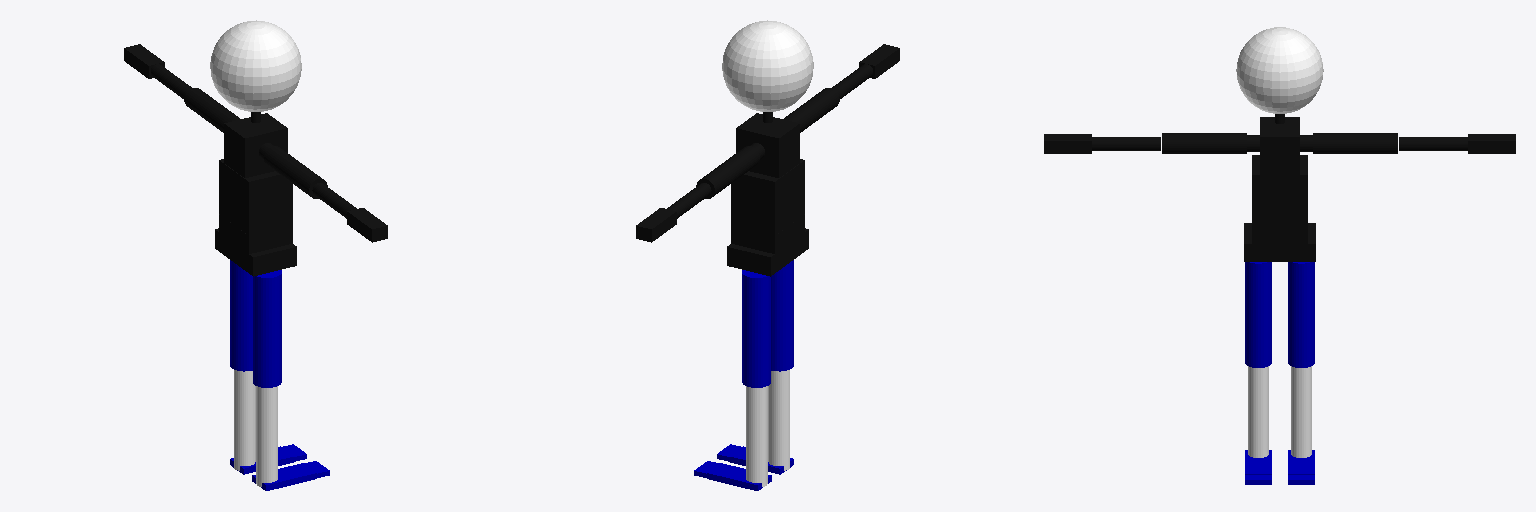
--- Facts derived from the render (not from the file) ---
Views: 3 orthographic renders of the robot side by side, from view 1: azimuth 30°, elevation 25°; view 2: azimuth 150°, elevation 25°; view 3: azimuth 270°, elevation 25°.
Robot: XSensStyleModel_template — 50 links, 49 joints (48 revolute, 1 fixed); root link world; default pose: every joint at zero.
Links seen in each view (by area): view 1: Head, RightUpperLeg, T8, LeftUpperLeg, T12, RightLowerLeg, LeftLowerLeg, L3, L5, Pelvis, RightUpperArm, LeftUpperArm (+5 smaller); view 2: Head, LeftUpperLeg, T8, RightUpperLeg, T12, LeftLowerLeg, RightLowerLeg, L3, L5, Pelvis, LeftUpperArm, RightUpperArm (+5 smaller); view 3: Head, RightUpperLeg, LeftUpperLeg, T8, RightLowerLeg, LeftLowerLeg, T12, RightUpperArm, LeftUpperArm, Pelvis, L3, RightForeArm (+4 smaller).
Link boxes in pixels (x1=…): Head: x1=210, y1=20, x2=301, y2=111; RightUpperLeg: x1=253, y1=270, x2=281, y2=387; T8: x1=224, y1=113, x2=287, y2=177; LeftUpperLeg: x1=230, y1=260, x2=252, y2=371; T12: x1=219, y1=159, x2=292, y2=210; RightLowerLeg: x1=256, y1=386, x2=277, y2=486; LeftLowerLeg: x1=234, y1=370, x2=255, y2=470; L3: x1=219, y1=189, x2=292, y2=235; L5: x1=219, y1=214, x2=292, y2=260; Pelvis: x1=215, y1=228, x2=296, y2=276; RightUpperArm: x1=264, y1=146, x2=327, y2=198; LeftUpperArm: x1=184, y1=88, x2=239, y2=132; Head: x1=722, y1=20, x2=813, y2=111; LeftUpperLeg: x1=742, y1=270, x2=770, y2=387; T8: x1=736, y1=113, x2=799, y2=177; RightUpperLeg: x1=771, y1=260, x2=793, y2=371; T12: x1=731, y1=159, x2=804, y2=210; LeftLowerLeg: x1=746, y1=386, x2=767, y2=486; RightLowerLeg: x1=768, y1=370, x2=789, y2=470; L3: x1=731, y1=189, x2=804, y2=235; L5: x1=731, y1=214, x2=804, y2=260; Pelvis: x1=727, y1=228, x2=808, y2=276; LeftUpperArm: x1=696, y1=146, x2=759, y2=198; RightUpperArm: x1=784, y1=88, x2=839, y2=132; Head: x1=1236, y1=27, x2=1323, y2=113; RightUpperLeg: x1=1245, y1=262, x2=1271, y2=367; LeftUpperLeg: x1=1288, y1=262, x2=1314, y2=367; T8: x1=1260, y1=117, x2=1299, y2=174; RightLowerLeg: x1=1248, y1=366, x2=1268, y2=457; LeftLowerLeg: x1=1291, y1=366, x2=1311, y2=457; T12: x1=1252, y1=155, x2=1307, y2=201; RightUpperArm: x1=1162, y1=133, x2=1246, y2=153; LeftUpperArm: x1=1313, y1=133, x2=1397, y2=153; Pelvis: x1=1244, y1=223, x2=1315, y2=261; L3: x1=1252, y1=202, x2=1307, y2=228; RightForeArm: x1=1092, y1=137, x2=1160, y2=150.
Bounding box of the posed robot: 0.2998 × 1.35 × 1.35 m (x, y, z).
Geometry: primitives only (box / cylinder / sphere), no mesh files.

URDF robot description (XSensStyleModel_template):
<!--URDF MODEL 48 DoFs-->

<!-- COTE GAUCHE ET DROITE DU BAS DU CORPS SONT INVERSES (ou pas)!!!! -->

<robot name="XSensStyleModel_template">

<material name="color">
    <color rgba="0.1 0.1 0.1 1"/>
</material>

<material name="blue">
    <color rgba="0 0 0.8 1"/>
</material>

<material name="red_transparency">
     <color rgba="1 0 0 0.5"/>              
</material>

<material name="white">
             <color rgba="1 1 1 1"/>
           </material>
<!--To open this model with Gazebo replace the null masses, inertias and dimensions of the 'fake links f1 and f2'-->

    <!--LINKS-->
    ################### AJOUT DU MONDE #################
    <link name="world"/>
    <joint name="joint_base" type="fixed">
    <origin xyz="0 0 0" rpy="0 0 0"/>
    <parent link="world"/>
    <child link="Pelvis"/>
    </joint>
    ######################################################
	<!--Link base (1)-->
	<link name="Pelvis">
        <inertial>
            <mass value="2.109"/>
			<!--COM origin wrt pHipOrigin-->
            <origin xyz="0           0    0.049743" rpy="0 0 0" />
            <inertia ixx="0.037" iyy="0.0027" izz="0.0045" ixy="0" ixz="0" iyz="0"/>
        </inertial>

        <visual>
			<!--box origin wrt pHipOrigin-->
            <origin xyz="0           0    0.049743" rpy="0 0 0" />
            <geometry>
                <box size="0.13815     0.20914    0.057469"/>
            </geometry>
            <material name="color"/>
        </visual>

        <collision>
			<!--box origin wrt pHipOrigin-->
            <origin xyz="0           0    0.049743" rpy="0 0 0" />
            <geometry>
                <box size="0.13815     0.20914    0.057469"/>
            </geometry>
        </collision>

    </link>
    <!--Chain from (2) to (7)-->
	<link name="L5_f1">
        <inertial>
            <mass value="0"/>
            <origin xyz="0 0 0" rpy="0 0 0" />
            <inertia ixx="0" iyy="0" izz="0" ixy="0" ixz="0" iyz="0"/>
        </inertial>
    </link>
	<link name="L5">
        <inertial>
            <mass value="1.5"/>
			<!--COM origin wrt jL5S1-->
            <origin xyz="0           0    0.047552" rpy="0 0 0" />
            <inertia ixx="0.1118" iyy="0.0715" izz="0.1609" ixy="0" ixz="0" iyz="0"/>
        </inertial>

        <visual>
			<!--box origin origin wrt jL5S1-->
            <origin xyz="0           0    0.047552" rpy="0 0 0" />
            <geometry>
                <box size="0.13815     0.16323    0.075104"/>
            </geometry>
            <material name="color"/>
        </visual>

        <collision>
			<!--box origin origin wrt jL5S1-->
            <origin xyz="0           0    0.047552" rpy="0 0 0" />
            <geometry>
                <box size="0.13815     0.16323    0.075104"/>
            </geometry>
        </collision>
    </link>
	<link name="L3_f1">
        <inertial>
            <mass value="0"/>
            <origin xyz="0 0 0" rpy="0 0 0" />
            <inertia ixx="0" iyy="0" izz="0" ixy="0" ixz="0" iyz="0"/>
        </inertial>
    </link>
	<link name="L3">
        <inertial>
            <mass value="1.5"/>
			<!--COM origin wrt jL4L3-->
            <origin xyz="0           0    0.042958" rpy="0 0 0" />
            <inertia ixx="0.1118" iyy="0.0715" izz="0.1609" ixy="0" ixz="0" iyz="0"/>
        </inertial>

        <visual>
			<!--box origin origin wrt jL4L3-->
            <origin xyz="0           0    0.042958" rpy="0 0 0" />
            <geometry>
                <box size="0.13815     0.16323    0.085916"/>
            </geometry>
            <material name="color"/>
        </visual>

        <collision>
			<!--box origin origin wrt jL4L3-->
            <origin xyz="0           0    0.042958" rpy="0 0 0" />
            <geometry>
                <box size="0.13815     0.16323    0.085916"/>
            </geometry>
        </collision>
    </link>
	<link name="T12_f1">
        <inertial>
            <mass value="0"/>
            <origin xyz="0 0 0" rpy="0 0 0" />
            <inertia ixx="0" iyy="0" izz="0" ixy="0" ixz="0" iyz="0"/>
        </inertial>
    </link>
	<link name="T12">
        <inertial>
            <mass value="1.5"/>
			<!--COM origin wrt jL1T12-->
            <origin xyz="0           0    0.042958" rpy="0 0 0" />
            <inertia ixx="0.1118" iyy="0.0715" izz="0.1609" ixy="0" ixz="0" iyz="0"/>
        </inertial>

        <visual>
			<!--box origin origin wrt jL1T12-->
            <origin xyz="0           0    0.042958" rpy="0 0 0" />
            <geometry>
                <box size="0.13815     0.16323    0.085916"/>
            </geometry>
            <material name="color"/>
        </visual>

        <collision>
			<!--box origin origin wrt jL1T12-->
            <origin xyz="0           0    0.042958" rpy="0 0 0" />
            <geometry>
                <box size="0.13815     0.16323    0.085916"/>
            </geometry>
        </collision>
    </link>
	<link name="T8_f1">
        <inertial>
            <mass value="0"/>
            <origin xyz="0 0 0" rpy="0 0 0" />
            <inertia ixx="0" iyy="0" izz="0" ixy="0" ixz="0" iyz="0"/>
        </inertial>
    </link>
	<link name="T8_f2">
        <inertial>
            <mass value="0"/>
            <origin xyz="0 0 0" rpy="0 0 0" />
            <inertia ixx="0" iyy="0" izz="0" ixy="0" ixz="0" iyz="0"/>
        </inertial>
    </link>
	<link name="T8">
        <inertial>
            <mass value="2.109"/>
			<!--COM origin wrt jT9T8-->
            <origin xyz="0           0    0.059874" rpy="0 0 0" />
            <inertia ixx="0.0037" iyy="0.0029" izz="0.0026" ixy="0" ixz="0" iyz="0"/>
        </inertial>

        <visual>
			<!--box origin wrt jT9T8-->
            <origin xyz="0           0    0.059874" rpy="0 0 0" />
            <geometry>
                <box size="0.13457    0.112626     0.11975"/>
            </geometry>
            <material name="color"/>
        </visual>

        <collision>
			<!--box origin wrt jT9T8-->
            <origin xyz="0           0    0.059874" rpy="0 0 0" />
            <geometry>
                <box size="0.13457    0.112626     0.11975"/>
            </geometry>
        </collision>

    </link>
	<link name="Neck_f1">
        <inertial>
            <mass value="0"/>
            <origin xyz="0 0 0" rpy="0 0 0" />
            <inertia ixx="0" iyy="0" izz="0" ixy="0" ixz="0" iyz="0"/>
        </inertial>
    </link>
	<link name="Neck_f2">
        <inertial>
            <mass value="0"/>
            <origin xyz="0 0 0" rpy="0 0 0" />
            <inertia ixx="0" iyy="0" izz="0" ixy="0" ixz="0" iyz="0"/>
        </inertial>
    </link>
	<link name="Neck">
        <inertial>
            <mass value="0.500"/>
			<!--COM origin wrt jT1C7-->
            <origin xyz="0           0    0.044626" rpy="0 0 0" />
            <inertia ixx="0.0006461" iyy="0.0006461" izz="0.00030124" ixy="0" ixz="0" iyz="0"/>
        </inertial>

        <visual>
			<!--box origin wrt jT1C7-->
            <origin xyz="0           0    0.044626" rpy="0 0 0" />
            <geometry>
		<cylinder length="0.06" radius="0.014205"/>
            </geometry>
            <material name="color"/>
        </visual>

        <collision>
			<!--box origin wrt jT1C7-->
            <origin xyz="0           0    0.044626" rpy="0 0 0" />
            <geometry>
                <cylinder length="0.089252" radius="0.014205"/>
            </geometry>
        </collision>
    </link>
	<link name="Head_f1">
        <inertial>
            <mass value="0"/>
            <origin xyz="0 0 0" rpy="0 0 0" />
            <inertia ixx="0" iyy="0" izz="0" ixy="0" ixz="0" iyz="0"/>
        </inertial>
    </link>
	<link name="Head">
        <inertial>
            <mass value="2.47"/>
			<!--COM origin wrt jC1Head-->
            <origin xyz="0           0    0.089005" rpy="0 0 0" />
            <inertia ixx="0.0181" iyy="0.0193" izz="0.0124" ixy="0" ixz="0" iyz="0"/>
        </inertial>

        <visual>
			<!--box origin wrt jC1Head-->
            <origin xyz="0           0    0.089005" rpy="0 0 0" />
            <geometry>
                <sphere radius="0.125"/>
            </geometry>
            <material name="white"/>
        </visual>

        <collision>
			<!--box origin wrt jC1Head-->
            <origin xyz="0           0    0.089005" rpy="0 0 0" />
            <geometry>
                <sphere radius="0.125"/>
            </geometry>
        </collision>

    </link>
	<!--Chain from (8) to (11)-->
	<link name="RightShoulder">
        <inertial>
            <mass value="0"/>
			<!--COM origin wrt jRightC7Shoulder-->
            <origin xyz="0   -0.065233           0" rpy="0 0 0" />
            <inertia ixx="0.0" iyy="0.0" izz="0.0" ixy="0" ixz="0" iyz="0"/>
        </inertial>

        <visual>
			<!--box origin wrt jRightC7Shoulder. RPY rotated of pi/2.-->
            <origin xyz="0   -0.02          0" rpy="1.5708 0 0" />
            <geometry>
                <cylinder length="0.13047" radius="0.023574"/>
            </geometry>
            <material name="color"/>
        </visual>

        <collision>
			<!--box origin wrt jRightC7Shoulder. RPY rotated of pi/2.-->
            <origin xyz="0   -0.02          0" rpy="1.5708 0 0" />
            <geometry>
                <cylinder length="0.13047" radius="0.023574"/>
            </geometry>
        </collision>

    </link>
	<link name="RightUpperArm_f1">
        <inertial>
            <mass value="0"/>
            <origin xyz="0 0 0" rpy="0 0 0" />
            <inertia ixx="0" iyy="0" izz="0" ixy="0" ixz="0" iyz="0"/>
        </inertial>
    </link>
	<link name="RightUpperArm_f2">
        <inertial>
            <mass value="0"/>
            <origin xyz="0 0 0" rpy="0 0 0" />
            <inertia ixx="0" iyy="0" izz="0" ixy="0" ixz="0" iyz="0"/>
        </inertial>
    </link>
    <link name="RightUpperArm">
        <inertial>
            <mass value="0.638"/>
			<!--COM origin wrt jRightShoulder-->
            <origin xyz="0    -0.09497          0" rpy="0 0 0" />
            <inertia ixx="0.003" iyy="0.003" izz="7.59e-04" ixy="0" ixz="0" iyz="0"/>
        </inertial>

        <visual>
			<!--box origin wrt jRightShoulder. RPY rotated of pi/2.-->
            <origin xyz="0    -0.09497          0" rpy="1.5708 0 0" />
            <geometry>
                <cylinder length="0.245" radius="0.029449"/>
            </geometry>
            <material name="color"/>
        </visual>

        <collision>
			<!--box origin wrt jRightShoulder. RPY rotated of pi/2.-->
            <origin xyz="0    -0.13497           0" rpy="1.5708 0 0" />
            <geometry>
                <cylinder length="0.245" radius="0.029449"/>
            </geometry>
        </collision>

    </link>
	<link name="RightForeArm_f1">
        <inertial>
            <mass value="0"/>
            <origin xyz="0 0 0" rpy="0 0 0" />
            <inertia ixx="0" iyy="0" izz="0" ixy="0" ixz="0" iyz="0"/>
        </inertial>
    </link>
	<link name="RightForeArm">
        <inertial>
            <mass value="0.352"/>
			<!--COM origin wrt jRightElbow-->
            <origin xyz="0    -0.11124           0" rpy="0 0 0" />
            <inertia ixx="0.001" iyy="8.8e-4" izz="2.75e-4" ixy="0" ixz="0" iyz="0"/>
        </inertial>

        <visual>
			<!--box origin wrt jRightElbow. RPY rotated of pi/2.-->
            <origin xyz="0    -0.11124           0" rpy="1.5708 0 0" />
            <geometry>
                <cylinder length="0.20247" radius="0.019633"/>
            </geometry>
            <material name="color"/>
        </visual>

        <collision>
			<!--box origin wrt jRightElbow. RPY rotated of pi/2.-->
            <origin xyz="0    -0.11124           0" rpy="1.5708 0 0" />
            <geometry>
                <cylinder length="0.20247" radius="0.019633"/>
            </geometry>
        </collision>

    </link>
	<link name="RightHand_f1">
        <inertial>
            <mass value="0"/>
            <origin xyz="0 0 0" rpy="0 0 0" />
            <inertia ixx="0" iyy="0" izz="0" ixy="0" ixz="0" iyz="0"/>
        </inertial>
    </link>
	<link name="RightHand">
        <inertial>
            <mass value="0.176"/>
			<!--COM origin wrt jRightWrist-->
            <origin xyz="0   -0.083588           0" rpy="0 0 0" />
            <inertia ixx="0.0011" iyy="9.57e-4" izz="5.08e-4" ixy="0" ixz="0" iyz="0"/>
        </inertial>

        <visual>
			<!--box origin wrt jRightWrist-->
            <origin xyz="0   -0.083588           0" rpy="0 0 0" />
            <geometry>
                <box size="0.05     0.135    0.039266"/>
            </geometry>
            <material name="color"/>
        </visual>

        <collision>
			<!--box origin wrt jRightWrist-->
            <origin xyz="0   -0.083588           0" rpy="0 0 0" />
            <geometry>
                <box size="0.05     0.135   0.039266"/>
            </geometry>
        </collision>

    </link>
	<!--Chain from (12) to (15)-->
	<link name="LeftShoulder">
        <inertial>
            <mass value="0"/>
			<!--COM origin wrt jLeftC7Shoulder-->
            <origin xyz="0    0.065233           0" rpy="0 0 0" />
            <inertia ixx="0.0" iyy="0.00" izz="0.00" ixy="0" ixz="0" iyz="0"/>
        </inertial>

        <visual>
			<!--box origin wrt jLeftC7Shoulder. RPY rotated of pi/2.-->
            <origin xyz="0    0.02           0" rpy="1.5708 0 0" />
            <geometry>
                <cylinder length="0.13047" radius="0.023574"/>
            </geometry>
            <material name="color"/>
        </visual>

        <collision>
			<!--box origin wrt jLeftC7Shoulder. RPY rotated of pi/2.-->
            <origin xyz="0    0.02          0" rpy="1.5708 0 0" />
            <geometry>
                <cylinder length="0.13047" radius="0.023574"/>
            </geometry>
        </collision>

    </link>
	<link name="LeftUpperArm_f1">
        <inertial>
            <mass value="0"/>
            <origin xyz="0 0 0" rpy="0 0 0" />
            <inertia ixx="0" iyy="0" izz="0" ixy="0" ixz="0" iyz="0"/>
        </inertial>
    </link>
	<link name="LeftUpperArm_f2">
        <inertial>
            <mass value="0"/>
            <origin xyz="0 0 0" rpy="0 0 0" />
            <inertia ixx="0" iyy="0" izz="0" ixy="0" ixz="0" iyz="0"/>
        </inertial>
    </link>
	<link name="LeftUpperArm">
        <inertial>
            <mass value="0.639"/>
			<!--COM origin wrt jLeftShoulder-->
            <origin xyz="0     0.09497           0" rpy="0 0 0" />
            <inertia ixx="0.003" iyy="0.003" izz="7.59e-04" ixy="0" ixz="0" iyz="0"/>
        </inertial>

        <visual>
			<!--box origin wrt jLeftShoulder. RPY rotated of pi/2.-->
            <origin xyz="0     0.09497           0" rpy="1.5708 0 0" />
            <geometry>
                <cylinder length="0.245" radius="0.029449"/>
            </geometry>
            <material name="color"/>
        </visual>

        <collision>
			<!--box origin wrt jLeftShoulder. RPY rotated of pi/2.-->
            <origin xyz="0     0.13497           0" rpy="1.5708 0 0" />
            <geometry>
                <cylinder length="0.245" radius="0.029449"/>
            </geometry>
        </collision>

    </link>
	<link name="LeftForeArm_f1">
        <inertial>
            <mass value="0"/>
            <origin xyz="0 0 0" rpy="0 0 0" />
            <inertia ixx="0" iyy="0" izz="0" ixy="0" ixz="0" iyz="0"/>
        </inertial>
    </link>
	<link name="LeftForeArm">
        <inertial>
            <mass value="0.352"/>
			<!--COM origin wrt jLeftElbow-->
            <origin xyz="0     0.11124           0" rpy="0 0 0" />
            <inertia ixx="0.001" iyy="8.8e-4" izz="2.75e-4" ixy="0" ixz="0" iyz="0"/>
        </inertial>

        <visual>
			<!--box origin wrt jLeftElbow. RPY rotated of pi/2.-->
            <origin xyz="0     0.11124           0" rpy="1.5708 0 0" />
            <geometry>
                <cylinder length="0.20247" radius="0.019633"/>
            </geometry>
            <material name="color"/>
        </visual>

        <collision>
			<!--box origin wrt jLeftElbow. RPY rotated of pi/2.-->
            <origin xyz="0     0.11124           0" rpy="1.5708 0 0" />
            <geometry>
                <cylinder length="0.20247" radius="0.019633"/>
            </geometry>
        </collision>

    </link>
	<link name="LeftHand_f1">
        <inertial>
            <mass value="0"/>
            <origin xyz="0 0 0" rpy="0 0 0" />
            <inertia ixx="0" iyy="0" izz="0" ixy="0" ixz="0" iyz="0"/>
        </inertial>
    </link>
	<link name="LeftHand">
        <inertial>
            <mass value="0.176"/>
			<!--COM origin wrt jLeftWrist-->
            <origin xyz="0    0.083588           0" rpy="0 0 0" />
            <inertia ixx="0.0011" iyy="9.57e-4" izz="5.08e-4" ixy="0" ixz="0" iyz="0"/>
        </inertial>

        <visual>
			<!--COM origin wrt jLeftWrist-->
            <origin xyz="0    0.083588           0" rpy="0 0 0" />
            <geometry>
                <box size="0.05     0.135    0.039266"/>
            </geometry>
            <material name="color"/>
        </visual>

        <collision>
			<!--COM origin wrt jLeftWrist-->
            <origin xyz="0    0.083588           0" rpy="0 0 0" />
            <geometry>
                <box size="0.05    0.135    0.039266"/>
            </geometry>
        </collision>

    </link>
	<!--Chain from (16) to (19)-->
	<link name="RightUpperLeg_f1">
        <inertial>
            <mass value="0"/>
            <origin xyz="0 0 0" rpy="0 0 0" />
            <inertia ixx="0" iyy="0" izz="0" ixy="0" ixz="0" iyz="0"/>
        </inertial>
    </link>
	<link name="RightUpperLeg_f2">
        <inertial>
            <mass value="0"/>
            <origin xyz="0 0 0" rpy="0 0 0" />
            <inertia ixx="0" iyy="0" izz="0" ixy="0" ixz="0" iyz="0"/>
        </inertial>
    </link>
    <link name="RightUpperLeg">
        <inertial>
            <mass value="1.98"/>
			<!--COM origin wrt jRightHip-->
            <origin xyz="0           0    -0.16449" rpy="0 0 0" />
            <inertia ixx="0.0207" iyy="0.0221" izz="0.0078" ixy="0" ixz="0" iyz="0"/>
        </inertial>

        <visual>
			<!--box origin wrt jRightHip-->
            <origin xyz="0           0.02    -0.16449" rpy="0 0 0" />
            <geometry>
                <cylinder length="0.33" radius="0.04"/>
            </geometry>
            <material name="blue"/>
        </visual>

        <collision>
			<!--box origin wrt jRightHip-->
            <origin xyz="0           0.02   -0.16449" rpy="0 0 0" />
            <geometry>
                <cylinder length="0.33" radius="0.04"/>
            </geometry>
        </collision>

    </link>
	<link name="RightLowerLeg_f1">
        <inertial>
            <mass value="1.078"/>
            <origin xyz="0 0 0" rpy="0 0 0" />
            <inertia ixx="0" iyy="0" izz="0" ixy="0" ixz="0" iyz="0"/>
        </inertial>
    </link>
    <link name="RightLowerLeg">
        <inertial>
            <mass value="2.2703"/>
			<!--COM origin wrt jRightKnee-->
            <origin xyz="0           0    -0.14449" rpy="0 0 0" />
            <inertia ixx="0.0066" iyy="0.0066" izz="8.45e-4" ixy="0" ixz="0" iyz="0"/>
        </inertial>

        <visual>
			<!--box origin wrt jRightKnee-->
            <origin xyz="0           0.02    -0.14449" rpy="0 0 0" />
            <geometry>
                <cylinder length="0.32" radius="0.03"/>
            </geometry>
             <material name="white">
              <color rgba="1 1 1 1"/>
           </material>
        </visual>

        <collision>
			<!--box origin wrt jRightKnee-->
            <origin xyz="0           0.02    -0.14449" rpy="0 0 0" />
            <geometry>
                <cylinder length="0.32" radius="0.03"/>
            </geometry>
        </collision>

    </link>
	<link name="RightFoot_f1">
        <inertial>
            <mass value="0"/>
            <origin xyz="0 0 0" rpy="0 0 0" />
            <inertia ixx="0" iyy="0" izz="0" ixy="0" ixz="0" iyz="0"/>
        </inertial>
    </link>
	<link name="RightFoot_f2">
        <inertial>
            <mass value="0"/>
            <origin xyz="0 0 0" rpy="0 0 0" />
            <inertia ixx="0" iyy="0" izz="0" ixy="0" ixz="0" iyz="0"/>
        </inertial>
    </link>
    <link name="RightFoot">
        <inertial>
            <mass value="0.44"/>
			<!--COM origin wrt jRightAnkle-->
            <origin xyz="0.054652           0   -0.028254" rpy="0 0 0" />
            <inertia ixx="0.001" iyy="0.0044" izz="0.0044" ixy="0" ixz="0" iyz="0"/>
        </inertial>

        <visual>
			<!--box origin wrt jRightAnkle-->
	    	<origin xyz="0.054652           0.02   -0.028254" rpy="0 0 0" />
            <geometry>
                <box size="0.16    0.074775    0.018509"/>
            </geometry>
            <material name="blue"/>
        </visual>

        <collision>
			<!--box origin wrt jRightAnkle-->
		    <origin xyz="0.054652           0.02   -0.028254" rpy="0 0 0" />
	            <geometry>
	                <box size="0.16    0.074775    0.018509"/>
	            </geometry>
        </collision>

    </link>
    <link name="RightToe">
        <inertial>
            <mass value="0.01"/>
			<!--COM origin wrt jRightBallFoot-->
            <origin xyz="0.030086           0           +0.012" rpy="0 0 0" />
            <inertia ixx="4.5038e-05" iyy="2.9717e-05" izz="7.1624e-05" ixy="0" ixz="0" iyz="0"/>
        </inertial>

        <visual>
			<!--box origin wrt jRightBallFoot-->
            <origin xyz="0.030086           0.02           +0.012" rpy="0 0 0" />
            <geometry>
                <box size="0.060173    0.074775    0.014191"/>
            </geometry>
            <material name="blue"/>
        </visual>

        <collision>
			<!--box origin wrt jRightBallFoot-->
            <origin xyz="0.030086           0.02           +0.012" rpy="0 0 0" />
            <geometry>
                <box size="0.060173    0.074775    0.014191"/>
            </geometry>
        </collision>
    </link>
	<!--Chain from (20) to (23)-->
	<link name="LeftUpperLeg_f1">
        <inertial>
            <mass value="0"/>
            <origin xyz="0 0 0" rpy="0 0 0" />
            <inertia ixx="0" iyy="0" izz="0" ixy="0" ixz="0" iyz="0"/>
        </inertial>
    </link>
	<link name="LeftUpperLeg_f2">
        <inertial>
            <mass value="0"/>
            <origin xyz="0 0 0" rpy="0 0 0" />
            <inertia ixx="0" iyy="0" izz="0" ixy="0" ixz="0" iyz="0"/>
        </inertial>
    </link>
    <link name="LeftUpperLeg">
        <inertial>
            <mass value="1.98"/>
			<!--COM origin wrt jLeftHip-->
            <origin xyz="0           0    -0.16449" rpy="0 0 0" />
            <inertia ixx="0.0207" iyy="0.0221" izz="0.0078" ixy="0" ixz="0" iyz="0"/>
        </inertial>

        <visual>
			<!--box origin wrt jLeftHip-->
            <origin xyz="0           -.02    -0.16449" rpy="0 0 0" />
            <geometry>
                <cylinder length="0.33" radius="0.04"/>
            </geometry>
            <material name="blue"/>
        </visual>

        <collision>
			<!--box origin wrt jLeftHip-->
            <origin xyz="0           -.02    -0.16449" rpy="0 0 0" />
            <geometry>
                <cylinder length="0.33" radius="0.04"/>
            </geometry>
        </collision>

    </link>
	<link name="LeftLowerLeg_f1">
        <inertial>
            <mass value="0"/>
            <origin xyz="0 0 0" rpy="0 0 0" />
            <inertia ixx="0" iyy="0" izz="0" ixy="0" ixz="0" iyz="0"/>
        </inertial>
    </link>
	<link name="LeftLowerLeg">
        <inertial>
            <mass value="1.078"/>
			<!--COM origin wrt jLeftKnee-->
            <origin xyz="0           0    -0.14449" rpy="0 0 0" />
            <inertia ixx="0.0066" iyy="0.0066" izz="8.45e-4" ixy="0" ixz="0" iyz="0"/>
        </inertial>

        <visual>
			<!--box origin wrt jLeftKnee-->
            <origin xyz="0           -.02    -0.14449" rpy="0 0 0" />
            <geometry>
		<cylinder length="0.32" radius="0.03"/>
            </geometry>
            <material name="white"/>
        </visual>

        <collision>
			<!--box origin wrt jLeftKnee-->
            <origin xyz="0           -.02    -0.14449" rpy="0 0 0" />
            <geometry>
		<cylinder length="0.32" radius="0.03"/>
            </geometry>
        </collision>

    </link>
	<link name="LeftFoot_f1">
        <inertial>
            <mass value="0"/>
            <origin xyz="0 0 0" rpy="0 0 0" />
            <inertia ixx="0" iyy="0" izz="0" ixy="0" ixz="0" iyz="0"/>
        </inertial>
    </link>
	<link name="LeftFoot_f2">
        <inertial>
            <mass value="0"/>
            <origin xyz="0 0 0" rpy="0 0 0" />
            <inertia ixx="0" iyy="0" izz="0" ixy="0" ixz="0" iyz="0"/>
        </inertial>
    </link>
    <link name="LeftFoot">
        <inertial>
            <mass value="0.44"/>
			<!--COM origin wrt jLeftAnkle-->
            <origin xyz="0.054652           0   -0.028254" rpy="0 0 0" />
            <inertia ixx="0.001" iyy="0.0044" izz="0.0044" ixy="0" ixz="0" iyz="0"/>
        </inertial>

        <visual>
			<!--box origin wrt jLeftAnkle-->
	   	 	<origin xyz="0.054652           -.02   -0.028254" rpy="0 0 0" />
            <geometry>
                <box size="0.16    0.074775    0.018509"/>
            </geometry>
            <material name="blue"/>
        </visual>

        <collision>
			<!--box origin wrt jLeftAnkle-->
		    <origin xyz="0.054652           -.02   -0.028254" rpy="0 0 0" />
	            <geometry>
	                <box size="0.16    0.074775    0.018509"/>
	            </geometry>
        </collision>

    </link>
	<link name="LeftToe">
        <inertial>
            <mass value="0.01"/>
			<!--COM origin wrt jLeftBallFoot-->
            <origin xyz="0.030086           0           +0.012" rpy="0 0 0" />
            <inertia ixx="4.5038e-05" iyy="2.9717e-05" izz="7.1624e-05" ixy="0" ixz="0" iyz="0"/>
        </inertial>

        <visual>
			<!--box origin wrt jLeftBallFoot-->
            <origin xyz="0.030086           -.02           +0.012" rpy="0 0 0" />
            <geometry>
                <box size="0.060173    0.074775    0.014191"/>
            </geometry>
            <material name="blue"/>
        </visual>

        <collision>
			<!--box origin wrt jLeftBallFoot-->
            <origin xyz="0.030086           -.02           +0.012" rpy="0 0 0" />
            <geometry>
                <box size="0.060173    0.074775    0.014191"/>
            </geometry>
        </collision>
    </link>


	<!--JOINTS-->
	<!--Chain from (2) to (7)-->
	<joint name="jL5S1_rotx" type="revolute">
        <origin xyz="-0.000206           0    0.048478" rpy="0 0 0"/>
        <parent link="Pelvis"/>
        <child link="L5_f1"/>
        <dynamics damping="0.1" friction="0.0"/>
        <limit effort="30" velocity="1.0" lower="-0.610865" upper="0.610865" />
        <axis xyz="1 0 0" />
    </joint>
	<joint name="jL5S1_roty" type="revolute">
        <origin xyz="0 0 0" rpy="0 0 0"/>
        <parent link="L5_f1"/>
        <child link="L5"/>
        <dynamics damping="0.1" friction="0.0"/>
        <limit effort="30" velocity="1.0" lower="-0.523599" upper="1.309" />
        <axis xyz="0 1 0" />
    </joint>
	<joint name="jL4L3_rotx" type="revolute">
        <origin xyz="0.000374           0    0.075104" rpy="0 0 0"/>
        <parent link="L5"/>
        <child link="L3_f1"/>
        <dynamics damping="0.1" friction="0.0"/>
        <limit effort="30" velocity="1.0" lower="-0.610865" upper="0.610865" />
        <axis xyz="1 0 0" />
    </joint>
	<joint name="jL4L3_roty" type="revolute">
        <origin xyz="0 0 0" rpy="0 0 0"/>
        <parent link="L3_f1"/>
        <child link="L3"/>
        <dynamics damping="0.1" friction="0.0"/>
        <limit effort="30" velocity="1.0" lower="-0.523599" upper="1.309" />
        <axis xyz="0 1 0" />
    </joint>
	<joint name="jL1T12_rotx" type="revolute">
        <origin xyz="0           0    0.085916" rpy="0 0 0"/>
        <parent link="L3"/>
        <child link="T12_f1"/>
        <dynamics damping="0.1" friction="0.0"/>
        <limit effort="30" velocity="1.0" lower="-0.610865" upper="0.610865" />
        <axis xyz="1 0 0" />
    </joint>
	<joint name="jL1T12_roty" type="revolute">
        <origin xyz="0 0 0" rpy="0 0 0"/>
        <parent link="T12_f1"/>
        <child link="T12"/>
        <dynamics damping="0.1" friction="0.0"/>
        <limit effort="30" velocity="1.0" lower="-0.523599" upper="1.309" />
        <axis xyz="0 1 0" />
    </joint>
	<joint name="jT9T8_rotx" type="revolute">
        <origin xyz="0           0    0.085916" rpy="0 0 0"/>
        <parent link="T12"/>
        <child link="T8_f1"/>
        <dynamics damping="0.1" friction="0.0"/>
        <limit effort="30" velocity="1.0" lower="-0.349066" upper="0.349066" />
        <axis xyz="1 0 0" />
    </joint>
	<joint name="jT9T8_roty" type="revolute">
        <origin xyz="0 0 0" rpy="0 0 0"/>
        <parent link="T8_f1"/>
        <child link="T8_f2"/>
        <dynamics damping="0.1" friction="0.0"/>
        <limit effort="30" velocity="1.0" lower="-0.261799" upper="0.698132" />
        <axis xyz="0 1 0" />
    </joint>
    <joint name="jT9T8_rotz" type="revolute">
        <origin xyz="0 0 0" rpy="0 0 0"/>
        <parent link="T8_f2"/>
        <child link="T8"/>
        <dynamics damping="0.1" friction="0.0"/>
        <limit effort="30" velocity="1.0" lower="-0.610865" upper="0.610865" />
        <axis xyz="0 0 1" />
    </joint>
	<joint name="jT1C7_rotx" type="revolute">
        <origin xyz="0           0     0.11975" rpy="0 0 0"/>
        <parent link="T8"/>
        <child link="Neck_f1"/>
        <dynamics damping="0.1" friction="0.0"/>
        <limit effort="30" velocity="1.0" lower="-0.610865" upper="0.610865" />
        <axis xyz="1 0 0" />
    </joint>
	<joint name="jT1C7_roty" type="revolute">
        <origin xyz="0 0 0" rpy="0 0 0"/>
        <parent link="Neck_f1"/>
        <child link="Neck_f2"/>
        <dynamics damping="0.1" friction="0.0"/>
        <limit effort="30" velocity="1.0" lower="-0.959931" upper="1.5708" />
        <axis xyz="0 1 0" />
    </joint>
    <joint name="jT1C7_rotz" type="revolute">
        <origin xyz="0 0 0" rpy="0 0 0"/>
        <parent link="Neck_f2"/>
        <child link="Neck"/>
        <dynamics damping="0.1" friction="0.0"/>
        <limit effort="30" velocity="1.0" lower="-1.22173" upper="1.22173" />
        <axis xyz="0 0 1" />
    </joint>
	<joint name="jC1Head_rotx" type="revolute">
        <origin xyz="0.000152           0    0.089252" rpy="0 0 0"/>
        <parent link="Neck"/>
        <child link="Head_f1"/>
        <dynamics damping="0.1" friction="0.0"/>
        <limit effort="30" velocity="1.0" lower="-0.610865" upper="0.610865" />
        <axis xyz="1 0 0" />
    </joint>
	<joint name="jC1Head_roty" type="revolute">
        <origin xyz="0 0 0" rpy="0 0 0"/>
        <parent link="Head_f1"/>
        <child link="Head"/>
        <dynamics damping="0.1" friction="0.0"/>
        <limit effort="30" velocity="1.0" lower="-0.436332" upper="0.174533" />
        <axis xyz="0 1 0" />
    </joint>
	<!--Chain from (8) to (11)-->
	<joint name="jRightC7Shoulder_rotx" type="revolute">
        <origin xyz="0   -0.026313    0.067052" rpy="0 0 0"/>
        <parent link="T8"/>
        <child link="RightShoulder"/>
        <dynamics damping="0.1" friction="0.0"/>
        <limit effort="30" velocity="1.0" lower="-0.785398" upper="0.0872665" />
        <axis xyz="1 0 0" />
    </joint>
	<joint name="jRightShoulder_rotx" type="revolute">
        <origin xyz="0    -0.09497          0" rpy="0 0 0"/>
        <parent link="RightShoulder"/>
        <child link="RightUpperArm_f1"/>
        <dynamics damping="0.1" friction="0.0"/>
        <limit effort="30" velocity="1.0" lower="-2.35619" upper="1.5708" />
        <axis xyz="1 0 0" />
    </joint>
	<joint name="jRightShoulder_roty" type="revolute">
        <origin xyz="0 0 0" rpy="0 0 0"/>
        <parent link="RightUpperArm_f1"/>
        <child link="RightUpperArm_f2"/>
        <dynamics damping="0.1" friction="0.0"/>
        <limit effort="30" velocity="1.0" lower="-1.5708" upper="1.5708" />
        <axis xyz="0 1 0" />
    </joint>
    <joint name="jRightShoulder_rotz" type="revolute">
        <origin xyz="0 0 0" rpy="0 0 0"/>
        <parent link="RightUpperArm_f2"/>
        <child link="RightUpperArm"/>
        <dynamics damping="0.1" friction="0.0"/>
        <limit effort="30" velocity="1.0" lower="-0.785398" upper="3.14159" />
        <axis xyz="0 0 1" />
    </joint>
	<joint name="jRightElbow_roty" type="revolute">
        <origin xyz="0    -0.20994           0" rpy="0 0 0"/>
        <parent link="RightUpperArm"/>
        <child link="RightForeArm_f1"/>
        <dynamics damping="0.1" friction="0.0"/>
        <limit effort="30" velocity="1.0" lower="-1.5708" upper="1.48353" />
        <axis xyz="0 1 0" />
    </joint>
	<joint name="jRightElbow_rotz" type="revolute">
        <origin xyz="0 0 0" rpy="0 0 0"/>
        <parent link="RightForeArm_f1"/>
        <child link="RightForeArm"/>
        <dynamics damping="0.1" friction="0.0"/>
        <limit effort="30" velocity="1.0" lower="0" upper="2.53073" />
        <axis xyz="0 0 1" />
    </joint>
	<joint name="jRightWrist_rotx" type="revolute">
        <origin xyz="7.7e-05    -0.19247           0" rpy="0 0 0"/>
        <parent link="RightForeArm"/>
        <child link="RightHand_f1"/>
        <dynamics damping="0.1" friction="0.0"/>
        <limit effort="30" velocity="1.0" lower="-0.872665" upper="1.0472" />
        <axis xyz="1 0 0" />
    </joint>
	<joint name="jRightWrist_rotz" type="revolute">
        <origin xyz="0 0 0" rpy="0 0 0"/>
        <parent link="RightHand_f1"/>
        <child link="RightHand"/>
        <dynamics damping="0.1" friction="0.0"/>
        <limit effort="30" velocity="1.0" lower="-0.523599" upper="0.349066" />
        <axis xyz="0 0 1" />
    </joint>
	<!--Chain from (12) to (15)-->
	<joint name="jLeftC7Shoulder_rotx" type="revolute">
        <origin xyz="0    0.026313    0.067052" rpy="0 0 0"/>
        <parent link="T8"/>
        <child link="LeftShoulder"/>
        <dynamics damping="0.1" friction="0.0"/>
        <limit effort="30" velocity="1.0" lower="-0.0872665" upper="0.785398" />
        <axis xyz="1 0 0" />
    </joint>
	<joint name="jLeftShoulder_rotx" type="revolute">
        <origin xyz="0     0.09497           0" rpy="0 0 0"/>
        <parent link="LeftShoulder"/>
        <child link="LeftUpperArm_f1"/>
        <dynamics damping="0.1" friction="0.0"/>
        <limit effort="30" velocity="1.0" lower="-1.5708" upper="2.35619" />
        <axis xyz="1 0 0" />
    </joint>
	<joint name="jLeftShoulder_roty" type="revolute">
        <origin xyz="0 0 0" rpy="0 0 0"/>
        <parent link="LeftUpperArm_f1"/>
        <child link="LeftUpperArm_f2"/>
        <dynamics damping="0.1" friction="0.0"/>
        <limit effort="30" velocity="1.0" lower="-1.5708" upper="1.5708" />
        <axis xyz="0 1 0" />
    </joint>
    <joint name="jLeftShoulder_rotz" type="revolute">
        <origin xyz="0 0 0" rpy="0 0 0"/>
        <parent link="LeftUpperArm_f2"/>
        <child link="LeftUpperArm"/>
        <dynamics damping="0.1" friction="0.0"/>
        <limit effort="30" velocity="1.0" lower="-3.14159" upper="0.785398" />
        <axis xyz="0 0 1" />
    </joint>
    <joint name="jLeftElbow_roty" type="revolute">
        <origin xyz="0     0.20994           0" rpy="0 0 0"/>
        <parent link="LeftUpperArm"/>
        <child link="LeftForeArm_f1"/>
        <dynamics damping="0.1" friction="0.0"/>
        <limit effort="30" velocity="1.0" lower="-1.5708" upper="1.48353" />
        <axis xyz="0 1 0" />
    </joint>
    <joint name="jLeftElbow_rotz" type="revolute">
        <origin xyz="0 0 0" rpy="0 0 0"/>
        <parent link="LeftForeArm_f1"/>
        <child link="LeftForeArm"/>
        <dynamics damping="0.1" friction="0.0"/>
        <limit effort="30" velocity="1.0" lower="-2.53073" upper="0" />
        <axis xyz="0 0 1" />
    </joint>
	<joint name="jLeftWrist_rotx" type="revolute">
        <origin xyz="7.7e-05     0.19247           0" rpy="0 0 0"/>
        <parent link="LeftForeArm"/>
        <child link="LeftHand_f1"/>
        <dynamics damping="0.1" friction="0.0"/>
        <limit effort="30" velocity="1.0" lower="-1.0472" upper="0.872665" />
        <axis xyz="1 0 0" />
    </joint>
	<joint name="jLeftWrist_rotz" type="revolute">
        <origin xyz="0 0 0" rpy="0 0 0"/>
        <parent link="LeftHand_f1"/>
        <child link="LeftHand"/>
        <dynamics damping="0.1" friction="0.0"/>
        <limit effort="30" velocity="1.0" lower="-0.349066" upper="0.523599" />
        <axis xyz="0 0 1" />
    </joint>
	<!--Chain from (16) to (19)-->
	<joint name="jRightHip_rotx" type="revolute">
        <origin xyz="0.000103   -0.081614    0.001009" rpy="0 0 0"/>
        <parent link="Pelvis"/>
        <child link="RightUpperLeg_f1"/>
        <dynamics damping="0.1" friction="0.0"/>
        <limit effort="10000000" velocity="100000" lower="-100000" upper="10000" />
        <axis xyz="1 0 0" />
    </joint>
	<joint name="jRightHip_roty" type="revolute">
        <origin xyz="0 0 0" rpy="0 0 0"/>
        <parent link="RightUpperLeg_f1"/>
        <child link="RightUpperLeg_f2"/>
        <dynamics damping="0.1" friction="0.0"/>
        <limit effort="10000000" velocity="100000" lower="-100000" upper="10000" />
        <axis xyz="0 1 0" />
    </joint>
    <joint name="jRightHip_rotz" type="revolute">
        <origin xyz="0 0 0" rpy="0 0 0"/>
        <parent link="RightUpperLeg_f2"/>
        <child link="RightUpperLeg"/>
        <dynamics damping="0.1" friction="0.0"/>
        <limit effort="10000000" velocity="100000" lower="-100000" upper="10000" />
        <axis xyz="0 0 1" />
    </joint>
	<joint name="jRightKnee_roty" type="revolute">
        <origin xyz="3.6e-05           0    -0.33" rpy="0 0 0"/>
        <parent link="RightUpperLeg"/>
        <child link="RightLowerLeg_f1"/>
        <dynamics damping="0.1" friction="0.0"/>
        <limit effort="10000000" velocity="100000" lower="-100000" upper="10000" />
        <axis xyz="0 1 0" />
    </joint>
	<joint name="jRightKnee_rotz" type="revolute">
        <origin xyz="0 0 0" rpy="0 0 0"/>
        <parent link="RightLowerLeg_f1"/>
        <child link="RightLowerLeg"/>
        <dynamics damping="0.1" friction="0.0"/>
        <limit effort="10000000" velocity="100000" lower="-100000" upper="10000" />
        <axis xyz="0 0 1" />
    </joint>
	<joint name="jRightAnkle_rotx" type="revolute">
        <origin xyz="0.000205           0    -0.27" rpy="0 0 0"/>
        <parent link="RightLowerLeg"/>
        <child link="RightFoot_f1"/>
        <dynamics damping="0.1" friction="0.0"/>
        <limit effort="10000000" velocity="100000" lower="-100000" upper="10000" />
        <axis xyz="1 0 0" />
    </joint>
	<joint name="jRightAnkle_roty" type="revolute">
        <origin xyz="0 0 0" rpy="0 0 0"/>
        <parent link="RightFoot_f1"/>
        <child link="RightFoot_f2"/>
        <dynamics damping="0.1" friction="0.0"/>
        <limit effort="10000000" velocity="100000" lower="-100000" upper="10000" />
        <axis xyz="0 1 0" />
    </joint>
    <joint name="jRightAnkle_rotz" type="revolute">
        <origin xyz="0 0 0" rpy="0 0 0"/>
        <parent link="RightFoot_f2"/>
        <child link="RightFoot"/>
        <dynamics damping="0.1" friction="0.0"/>
        <limit effort="10000000" velocity="100000" lower="-100000" upper="10000" />
        <axis xyz="0 0 1" />
    </joint>
	<joint name="jRightBallFoot_roty" type="revolute">
        <origin xyz="0.11456           0   -0.040752" rpy="0 0 0"/>
        <parent link="RightFoot"/>
        <child link="RightToe"/>
        <dynamics damping="0.1" friction="0.0"/>
        <limit effort="10000000" velocity="100000" lower="-100000" upper="10000" />
        <axis xyz="0 1 0" />
    </joint>
	<!--Chain from (20) to (23)-->
	<joint name="jLeftHip_rotx" type="revolute">
        <origin xyz="0.000103    0.081614    0.001009" rpy="0 0 0"/>
        <parent link="Pelvis"/>
        <child link="LeftUpperLeg_f1"/>
        <dynamics damping="0.1" friction="0.0"/>
        <limit effort="10000000" velocity="100000" lower="-100000" upper="10000" />
        <axis xyz="1 0 0" />
    </joint>
	<joint name="jLeftHip_roty" type="revolute">
        <origin xyz="0 0 0" rpy="0 0 0"/>
        <parent link="LeftUpperLeg_f1"/>
        <child link="LeftUpperLeg_f2"/>
        <dynamics damping="0.1" friction="0.0"/>
        <limit effort="10000000" velocity="100000" lower="-100000" upper="10000" />
        <axis xyz="0 1 0" />
    </joint>
    <joint name="jLeftHip_rotz" type="revolute">
        <origin xyz="0 0 0" rpy="0 0 0"/>
        <parent link="LeftUpperLeg_f2"/>
        <child link="LeftUpperLeg"/>
        <dynamics damping="0.1" friction="0.0"/>
        <limit effort="10000000" velocity="100000" lower="-100000" upper="10000" />
        <axis xyz="0 0 1" />
    </joint>
	<joint name="jLeftKnee_roty" type="revolute">
        <origin xyz="3.6e-05           0    -0.33" rpy="0 0 0"/>
        <parent link="LeftUpperLeg"/>
        <child link="LeftLowerLeg_f1"/>
        <dynamics damping="0.1" friction="0.0"/>
        <limit effort="10000000" velocity="100000" lower="-100000" upper="10000" />
        <axis xyz="0 1 0" />
    </joint>
    <joint name="jLeftKnee_rotz" type="revolute">
        <origin xyz="0 0 0" rpy="0 0 0"/>
        <parent link="LeftLowerLeg_f1"/>
        <child link="LeftLowerLeg"/>
        <dynamics damping="0.1" friction="0.0"/>
        <limit effort="10000000" velocity="100000" lower="-100000" upper="10000" />
        <axis xyz="0 0 1" />
    </joint>
	<joint name="jLeftAnkle_rotx" type="revolute">
        <origin xyz="0.000205           0    -0.27" rpy="0 0 0"/>
        <parent link="LeftLowerLeg"/>
        <child link="LeftFoot_f1"/>
        <dynamics damping="0.1" friction="0.0"/>
        <limit effort="10000000" velocity="100000" lower="-100000" upper="10000" />
        <axis xyz="1 0 0" />
    </joint>
	<joint name="jLeftAnkle_roty" type="revolute">
        <origin xyz="0 0 0" rpy="0 0 0"/>
        <parent link="LeftFoot_f1"/>
        <child link="LeftFoot_f2"/>
        <dynamics damping="0.1" friction="0.0"/>
        <limit effort="10000000" velocity="100000" lower="-100000" upper="10000" />
        <axis xyz="0 1 0" />
    </joint>
    <joint name="jLeftAnkle_rotz" type="revolute">
        <origin xyz="0 0 0" rpy="0 0 0"/>
        <parent link="LeftFoot_f2"/>
        <child link="LeftFoot"/>
        <dynamics damping="0.1" friction="0.0"/>
        <limit effort="10000000" velocity="100000" lower="-100000" upper="10000" />
        <axis xyz="0 0 1" />
    </joint>
	<joint name="jLeftBallFoot_roty" type="revolute">
        <origin xyz="0.11456           0   -0.040752" rpy="0 0 0"/>
        <parent link="LeftFoot"/>
        <child link="LeftToe"/>
        <dynamics damping="0.1" friction="0.0"/>
        <limit effort="10000000" velocity="100000" lower="-100000" upper="10000" />
        <axis xyz="0 1 0" />
    </joint>

	<!-- Sensor  1-->
<sensor name="Pelvis_gyro" type="gyroscope">
<parent link="Pelvis"/>
<origin xyz="-0.056756 -5.6944e-06    0.097055" rpy="-0.3247     0.95826      2.4984"/>
</sensor>
<sensor name="Pelvis_accelerometer" type="accelerometer">
<parent link="Pelvis"/>
<origin xyz="-0.056756 -5.6944e-06    0.097055" rpy="-0.3247     0.95826      2.4984"/>
</sensor>
<!-- Sensor  2-->
<sensor name="T8_gyro" type="gyroscope">
<parent link="T8"/>
<origin xyz="0.1256  2.9265e-07    0.069079" rpy="0.054662      1.1921    0.026605"/>
</sensor>
<sensor name="T8_accelerometer" type="accelerometer">
<parent link="T8"/>
<origin xyz="0.1256  2.9265e-07    0.069079" rpy="0.054662      1.1921    0.026605"/>
</sensor>
<!-- Sensor  3-->
<sensor name="Head_gyro" type="gyroscope">
<parent link="Head"/>
<origin xyz="-0.069574  4.0118e-07    0.076475" rpy="2.3602    0.029132     -1.6926"/>
</sensor>
<sensor name="Head_accelerometer" type="accelerometer">
<parent link="Head"/>
<origin xyz="-0.069574  4.0118e-07    0.076475" rpy="2.3602    0.029132     -1.6926"/>
</sensor>
<!-- Sensor  4-->
<sensor name="RightShoulder_gyro" type="gyroscope">
<parent link="RightShoulder"/>
<origin xyz="-0.018859   -0.047148   -0.056578" rpy="1.3372    -0.28335     -1.4594"/>
</sensor>
<sensor name="RightShoulder_accelerometer" type="accelerometer">
<parent link="RightShoulder"/>
<origin xyz="-0.018859   -0.047148   -0.056578" rpy="1.3372    -0.28335     -1.4594"/>
</sensor>
<!-- Sensor  5-->
<sensor name="RightUpperArm_gyro" type="gyroscope">
<parent link="RightUpperArm"/>
<origin xyz="-0.018123   -0.090613    0.018123" rpy="-0.15226    0.030142     -1.5884"/>
</sensor>
<sensor name="RightUpperArm_accelerometer" type="accelerometer">
<parent link="RightUpperArm"/>
<origin xyz="-0.018123   -0.090613    0.018123" rpy="-0.15226    0.030142     -1.5884"/>
</sensor>
<!-- Sensor  6-->
<sensor name="RightForeArm_gyro" type="gyroscope">
<parent link="RightForeArm"/>
<origin xyz="0.0016793    -0.18323      0.0183" rpy="-1.1132    0.015024     -1.2543"/>
</sensor>
<sensor name="RightForeArm_accelerometer" type="accelerometer">
<parent link="RightForeArm"/>
<origin xyz="0.0016793    -0.18323      0.0183" rpy="-1.1132    0.015024     -1.2543"/>
</sensor>
<!-- Sensor  7-->
<sensor name="RightHand_gyro" type="gyroscope">
<parent link="RightHand"/>
<origin xyz="-3.4565e-08   -0.050814    0.018478" rpy="-0.69083   -0.053849     -1.4329"/>
</sensor>
<sensor name="RightHand_accelerometer" type="accelerometer">
<parent link="RightHand"/>
<origin xyz="-3.4565e-08   -0.050814    0.018478" rpy="-0.69083   -0.053849     -1.4329"/>
</sensor>
<!-- Sensor  8-->
<sensor name="LeftShoulder_gyro" type="gyroscope">
<parent link="LeftShoulder"/>
<origin xyz="-0.018859    0.047148   -0.056578" rpy="-1.1487    -0.34419      1.3655"/>
</sensor>
<sensor name="LeftShoulder_accelerometer" type="accelerometer">
<parent link="LeftShoulder"/>
<origin xyz="-0.018859    0.047148   -0.056578" rpy="-1.1487    -0.34419      1.3655"/>
</sensor>
<!-- Sensor  9-->
<sensor name="LeftUpperArm_gyro" type="gyroscope">
<parent link="LeftUpperArm"/>
<origin xyz="-0.018123    0.090613    0.018123" rpy="0.094373   -0.042991      1.6861"/>
</sensor>
<sensor name="LeftUpperArm_accelerometer" type="accelerometer">
<parent link="LeftUpperArm"/>
<origin xyz="-0.018123    0.090613    0.018123" rpy="0.094373   -0.042991      1.6861"/>
</sensor>
<!-- Sensor  10-->
<sensor name="LeftForeArm_gyro" type="gyroscope">
<parent link="LeftForeArm"/>
<origin xyz="0.0016791     0.18323    0.018301" rpy="0.90429     0.18107      1.1351"/>
</sensor>
<sensor name="LeftForeArm_accelerometer" type="accelerometer">
<parent link="LeftForeArm"/>
<origin xyz="0.0016791     0.18323    0.018301" rpy="0.90429     0.18107      1.1351"/>
</sensor>
<!-- Sensor  11-->
<sensor name="LeftHand_gyro" type="gyroscope">
<parent link="LeftHand"/>
<origin xyz="1.1198e-08    0.050814    0.018478" rpy="1.2175   -0.077786      1.3837"/>
</sensor>
<sensor name="LeftHand_accelerometer" type="accelerometer">
<parent link="LeftHand"/>
<origin xyz="1.1198e-08    0.050814    0.018478" rpy="1.2175   -0.077786      1.3837"/>
</sensor>
<!-- Sensor  12-->
<sensor name="RightUpperLeg_gyro" type="gyroscope">
<parent link="RightUpperLeg"/>
<origin xyz="0.012972    -0.04567    -0.26981" rpy="2.8247      1.4102      1.8304"/>
</sensor>
<sensor name="RightUpperLeg_accelerometer" type="accelerometer">
<parent link="RightUpperLeg"/>
<origin xyz="0.012972    -0.04567    -0.26981" rpy="2.8247      1.4102      1.8304"/>
</sensor>
<!-- Sensor  13-->
<sensor name="RightLowerLeg_gyro" type="gyroscope">
<parent link="RightLowerLeg"/>
<origin xyz="0.030805   0.0070514    -0.13253" rpy="-2.9287      1.4733     -1.9582"/>
</sensor>
<sensor name="RightLowerLeg_accelerometer" type="accelerometer">
<parent link="RightLowerLeg"/>
<origin xyz="0.030805   0.0070514    -0.13253" rpy="-2.9287      1.4733     -1.9582"/>
</sensor>
<!-- Sensor  14-->
<sensor name="RightFoot_gyro" type="gyroscope">
<parent link="RightFoot"/>
<origin xyz="0.083701   0.0013928   -0.011817" rpy="0.30301     0.49685    -0.19697"/>
</sensor>
<sensor name="RightFoot_accelerometer" type="accelerometer">
<parent link="RightFoot"/>
<origin xyz="0.083701   0.0013928   -0.011817" rpy="0.30301     0.49685    -0.19697"/>
</sensor>
<!-- Sensor  15-->
<sensor name="LeftUpperLeg_gyro" type="gyroscope">
<parent link="LeftUpperLeg"/>
<origin xyz="0.012973     0.04567    -0.26981" rpy="-2.3214      1.4159     -1.1979"/>
</sensor>
<sensor name="LeftUpperLeg_accelerometer" type="accelerometer">
<parent link="LeftUpperLeg"/>
<origin xyz="0.012973     0.04567    -0.26981" rpy="-2.3214      1.4159     -1.1979"/>
</sensor>
<!-- Sensor  16-->
<sensor name="LeftLowerLeg_gyro" type="gyroscope">
<parent link="LeftLowerLeg"/>
<origin xyz="0.030805  -0.0070515    -0.13253" rpy="-2.6156      1.3817      2.7867"/>
</sensor>
<sensor name="LeftLowerLeg_accelerometer" type="accelerometer">
<parent link="LeftLowerLeg"/>
<origin xyz="0.030805  -0.0070515    -0.13253" rpy="-2.6156      1.3817      2.7867"/>
</sensor>
<!-- Sensor  17-->
<sensor name="LeftFoot_gyro" type="gyroscope">
<parent link="LeftFoot"/>
<origin xyz="0.083701  -0.0013929   -0.011817" rpy="-0.10862      0.4501     0.37976"/>
</sensor>
<sensor name="LeftFoot_accelerometer" type="accelerometer">
<parent link="LeftFoot"/>
<origin xyz="0.083701  -0.0013929   -0.011817" rpy="-0.10862      0.4501     0.37976"/>
</sensor>


</robot>
